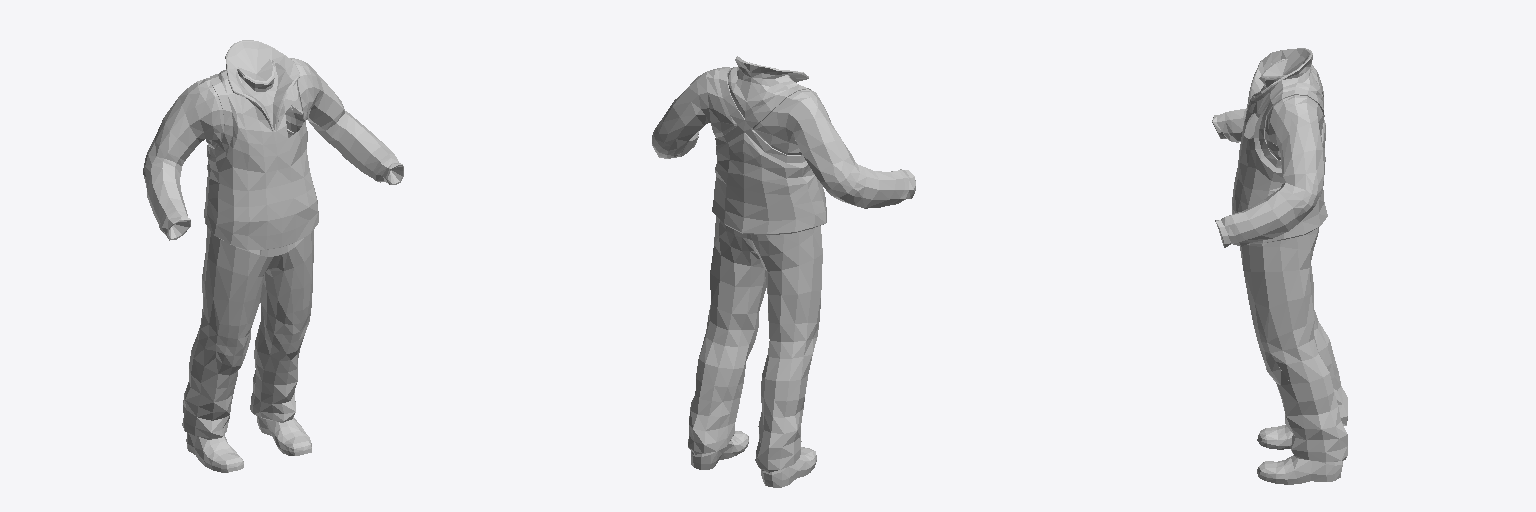
Rendered from body1.obj.
3 views of the same model, side by side, from view 1: azimuth 30°, elevation 25°; view 2: azimuth 150°, elevation 25°; view 3: azimuth 270°, elevation 25° (orthographic).
Visible parts, largest first — view 1: slav_body1; view 2: slav_body1; view 3: slav_body1.
Part boxes in pixels (x1,y1,x2,y2): slav_body1: (143, 40, 403, 472); slav_body1: (652, 56, 915, 487); slav_body1: (1212, 48, 1347, 484).
Size of the model in its own units: 40.23 by 65.04 by 19.76.